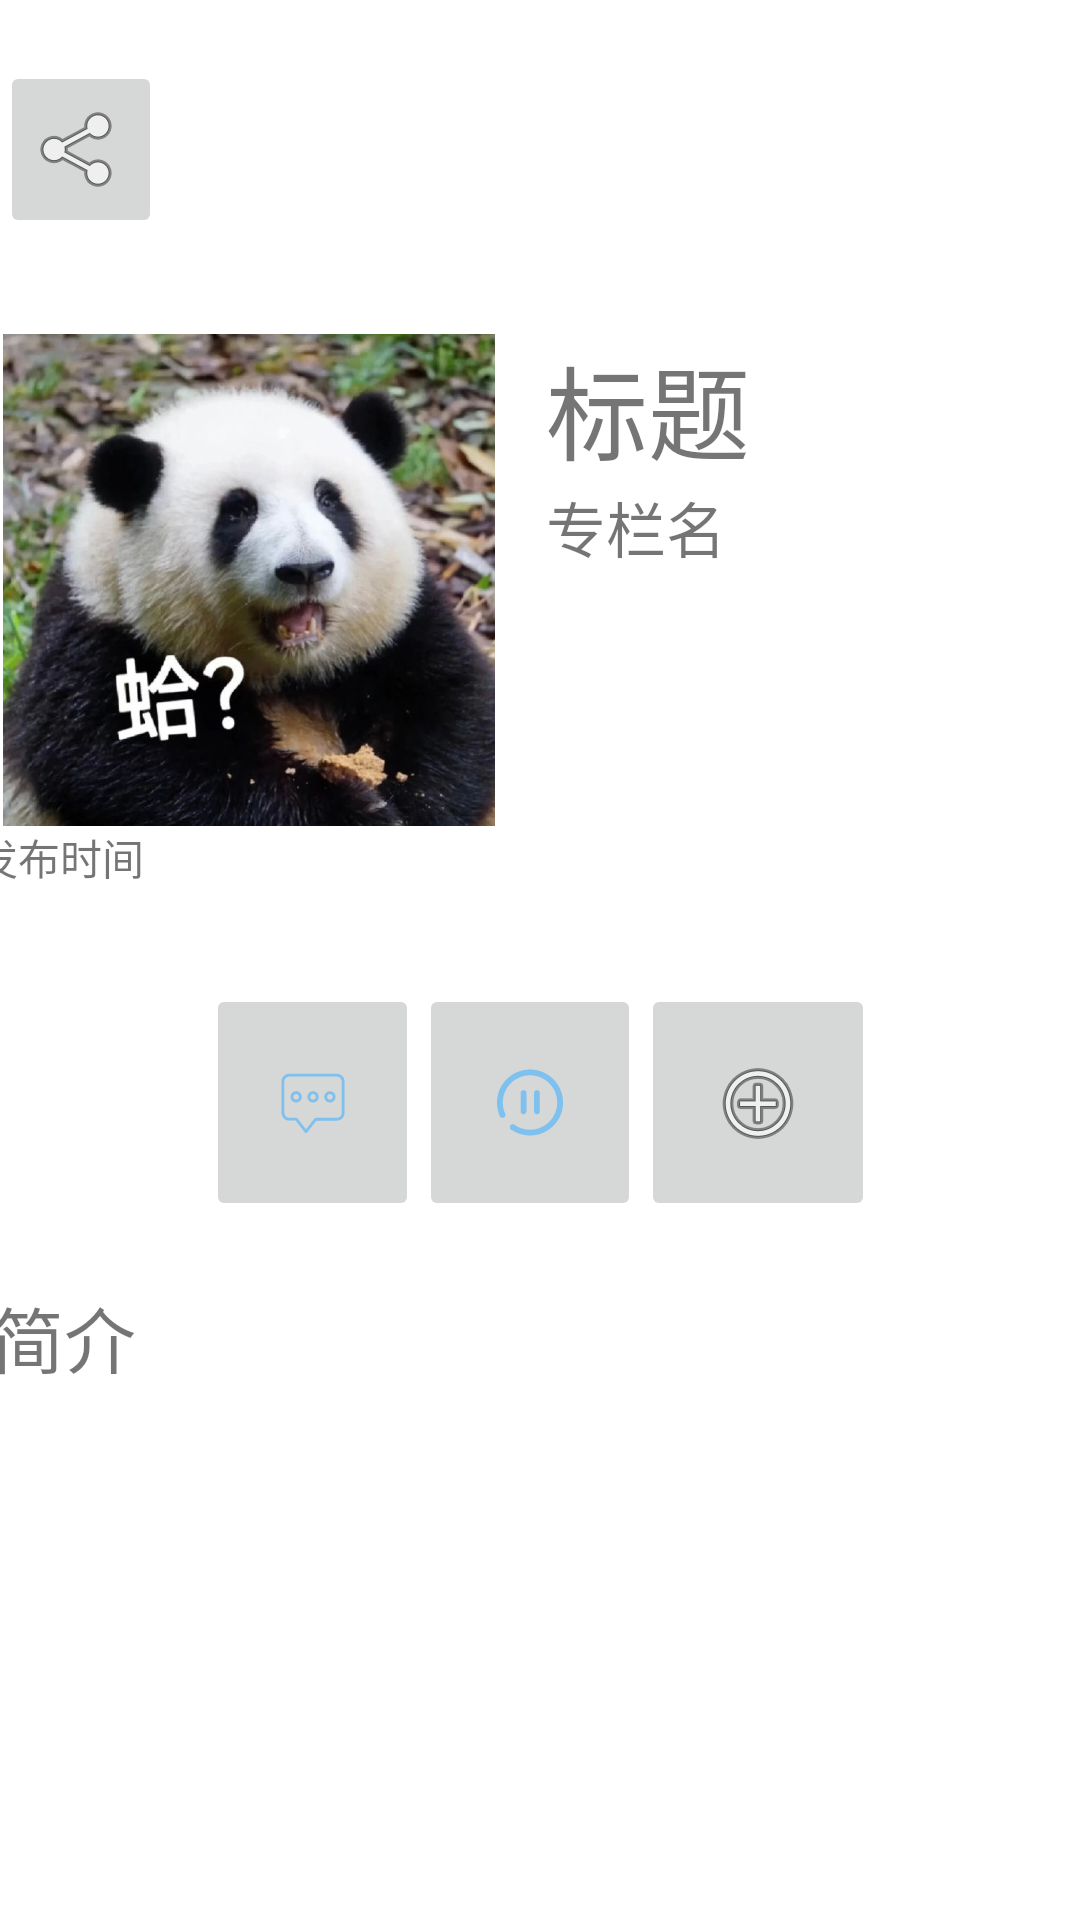

Icons on this 1080px x 1920px Android screen, each with the point to tap as point (x, y):
add: point (758, 1102)
comment: point (312, 1102)
pause: point (530, 1102)
share: point (81, 149)
